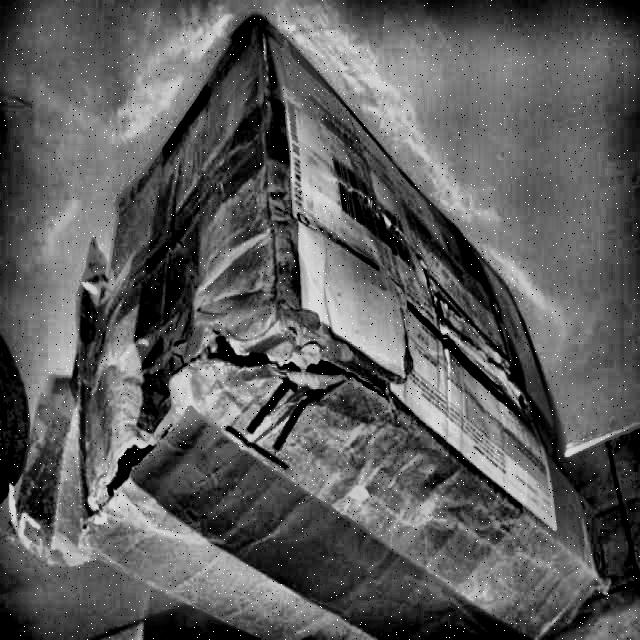box: (8, 10, 605, 640)
hole: (195, 317, 368, 397)
